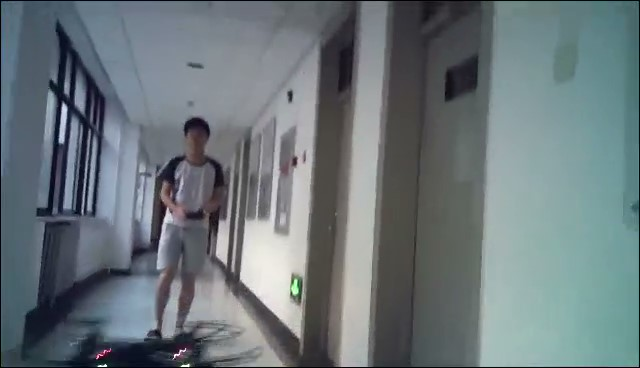drone: (2, 318, 269, 368)
person: (143, 117, 231, 347)
